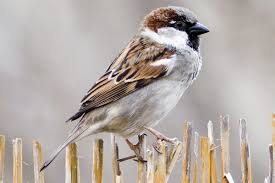hsparrow: (33, 2, 213, 170)
